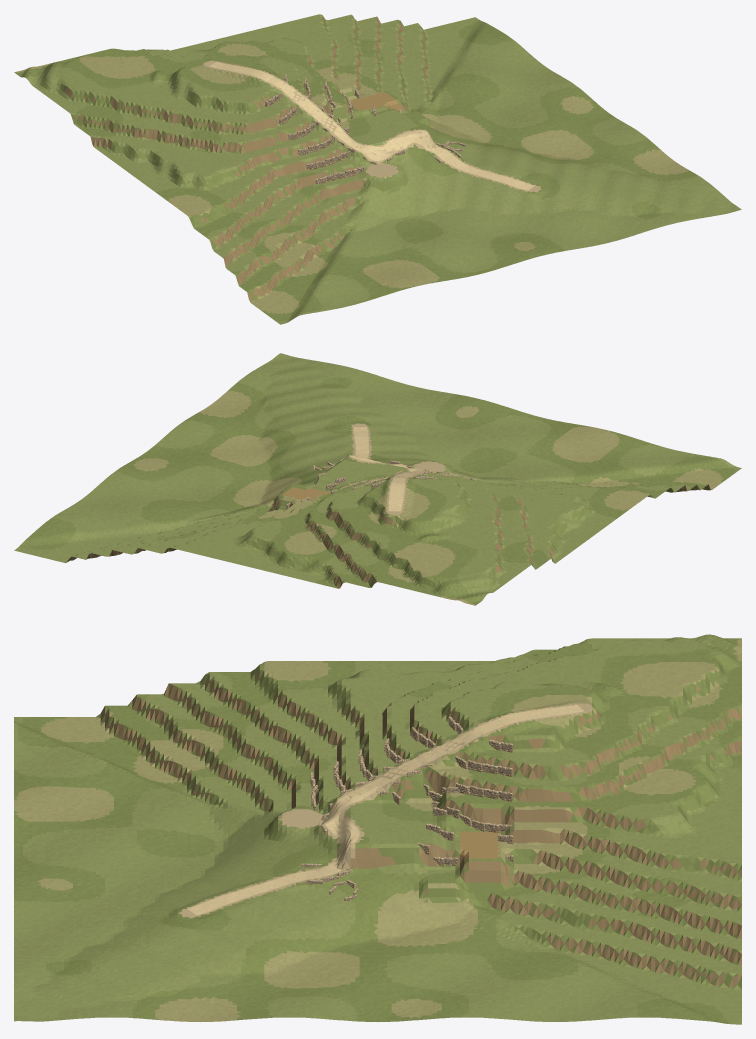
File: betfage_cenario.glb
3 renders of one model, top to bottom at view 1: azimuth 30°, elevation 25°; view 2: azimuth 150°, elevation 25°; view 3: azimuth 270°, elevation 25°, orthographic. The views are drawn at different scales.
Visible parts, largest first — view 1: Betfage_Terreno, Betfage_Estrada; view 2: Betfage_Terreno, Betfage_Estrada; view 3: Betfage_Terreno, Betfage_Estrada.
Part boxes in pixels (bbox=[...]): Betfage_Terreno: bbox=[14, 14, 741, 324]; Betfage_Estrada: bbox=[209, 62, 534, 190]; Betfage_Terreno: bbox=[14, 353, 741, 605]; Betfage_Estrada: bbox=[348, 427, 423, 511]; Betfage_Terreno: bbox=[14, 634, 741, 1024]; Betfage_Estrada: bbox=[187, 705, 583, 915].
Bounding box in the file's own units: 112 × 18.02 × 112.
Materials: 3 (1 with a texture image).
